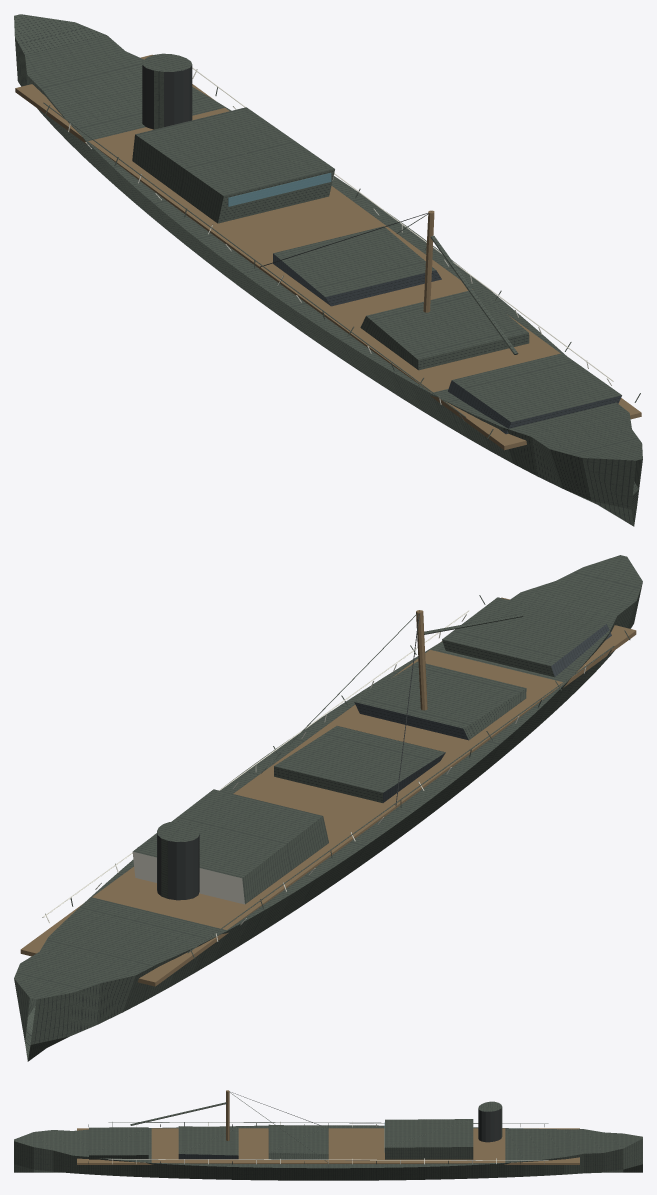
File: damaged2.gltf
3 views of the same model, one above another, from view 1: azimuth 30°, elevation 25°; view 2: azimuth 150°, elevation 25°; view 3: azimuth 270°, elevation 25° (orthographic). The views are drawn at different scales.
Visible parts, largest first — view 1: britainfreighter_damaged2; view 2: britainfreighter_damaged2; view 3: britainfreighter_damaged2.
Part boxes in pixels (left/top/right/bottom): britainfreighter_damaged2: left=14, top=14, right=642, bottom=526; britainfreighter_damaged2: left=14, top=555, right=642, bottom=1061; britainfreighter_damaged2: left=14, top=1090, right=642, bottom=1180.
Bounding box in the file's own units: 34 × 30.63 × 210.
7 materials, 3 textured.
